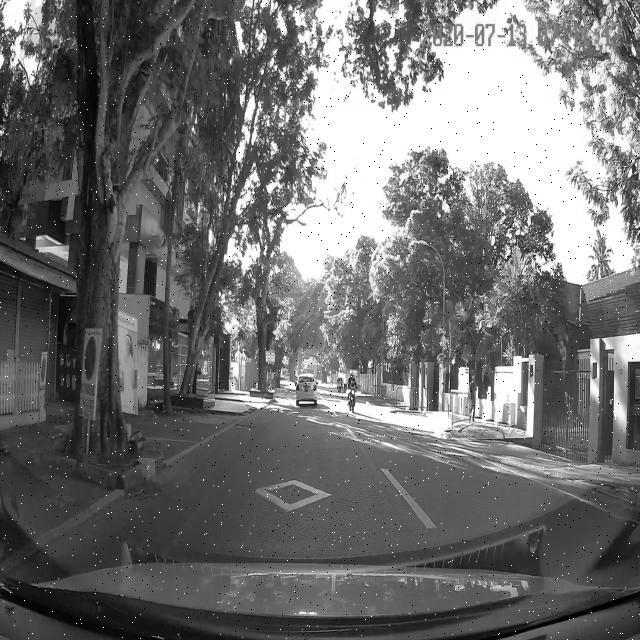diamond: (80, 444, 443, 533)
